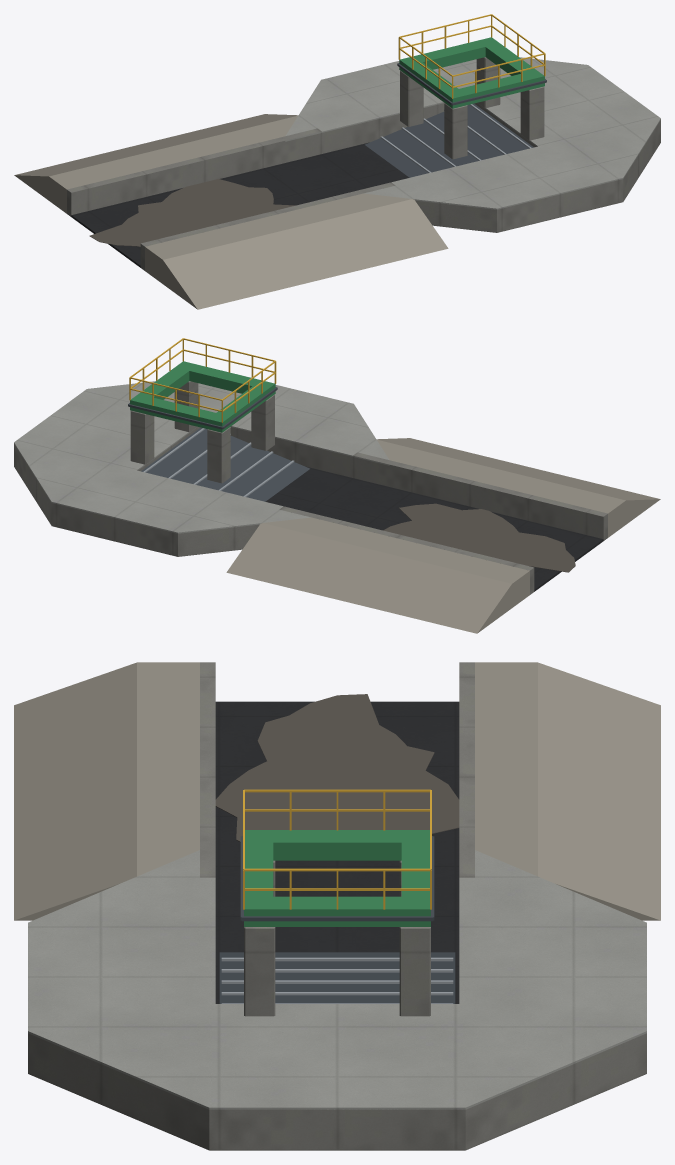
The model's file is pit.glb.
The picture shows the model from 3 angles, top to bottom: view 1: azimuth 30°, elevation 25°; view 2: azimuth 150°, elevation 25°; view 3: azimuth 270°, elevation 25°; orthographic projection. The views are drawn at different scales.
Parts seen in each view (by area): view 1: pit; view 2: pit; view 3: pit.
Part boxes in pixels (box(x1,y1,x2,y2)): pit: box(14, 14, 660, 309); pit: box(14, 338, 660, 633); pit: box(14, 662, 660, 1150).
Size of the model in its own units: 27.15 by 5.33 by 16.42.
Materials: 9 (3 with a texture image).
